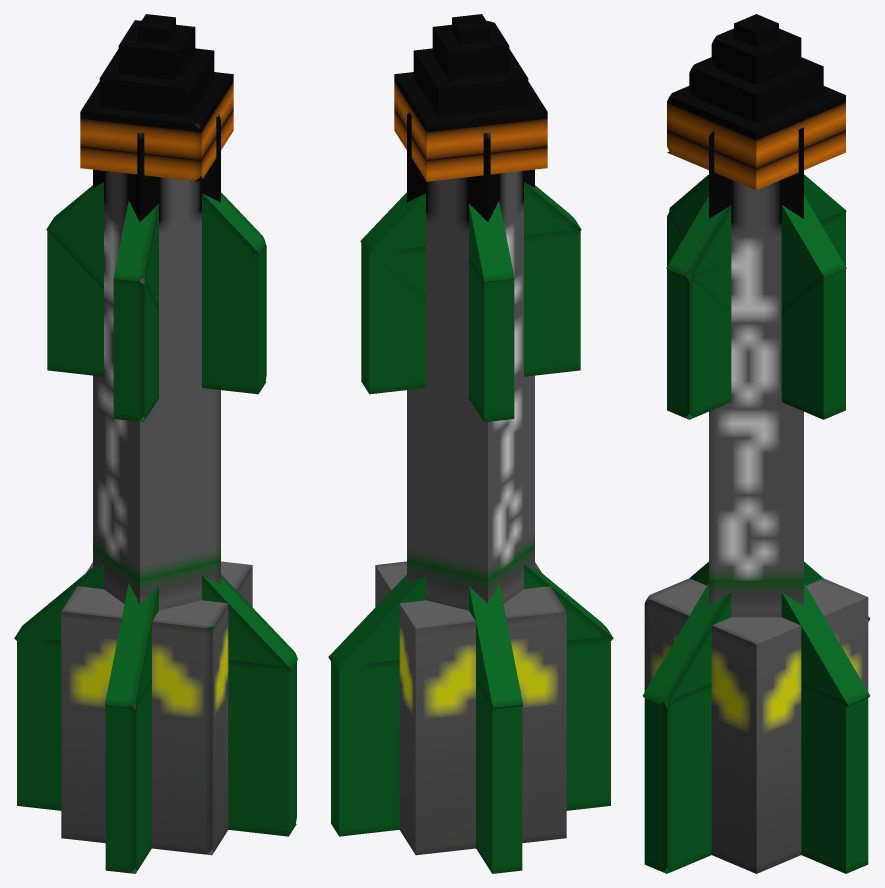
The model's file is missile_conventional.obj.
3 renders of one model, left to right at view 1: azimuth 30°, elevation 25°; view 2: azimuth 150°, elevation 25°; view 3: azimuth 270°, elevation 25°, orthographic.
Visible parts, largest first — view 1: MAIN_MISSILE_MODULE, PROPULSOR_MODULE, WING_B_B_1, WING_T_B_2, WARHEAD_1, WING_B_A_1, WING_T_B_1, WING_T_A_2, WING_B_B_2, WARHEAD_2, WING_B_A_2, WARHEAD_3 (+2 smaller); view 2: MAIN_MISSILE_MODULE, PROPULSOR_MODULE, WING_B_A_1, WING_T_A_2, WARHEAD_1, WING_B_B_1, WING_T_B_2, WING_T_A_1, WING_B_A_2, WARHEAD_2, WING_B_B_2, WARHEAD_3 (+2 smaller); view 3: MAIN_MISSILE_MODULE, PROPULSOR_MODULE, WARHEAD_1, WING_B_A_1, WING_B_B_1, WING_T_B_2, WING_T_A_2, WING_T_A_1, WARHEAD_2, WING_T_B_1, WING_B_B_2, WING_B_A_2 (+2 smaller).
Boxes of the visible parts, x1,y1,x2,y2 form: MAIN_MISSILE_MODULE: (93, 114, 220, 610); PROPULSOR_MODULE: (61, 561, 252, 855); WING_B_B_1: (17, 636, 296, 836); WING_T_B_2: (47, 231, 266, 394); WARHEAD_1: (80, 72, 233, 181); WING_B_A_1: (105, 679, 151, 873); WING_T_B_1: (46, 182, 265, 300); WING_T_A_2: (113, 276, 158, 422); WING_B_B_2: (14, 564, 297, 671); WARHEAD_2: (99, 48, 214, 116); WING_B_A_2: (105, 583, 158, 709); WARHEAD_3: (118, 20, 195, 80); MAIN_MISSILE_MODULE: (407, 112, 534, 610); PROPULSOR_MODULE: (375, 561, 566, 855); WING_B_A_1: (331, 636, 610, 836); WING_T_A_2: (361, 229, 580, 394); WARHEAD_1: (394, 72, 547, 181); WING_B_B_1: (476, 679, 522, 873); WING_T_B_2: (469, 257, 514, 422); WING_T_A_1: (360, 182, 581, 300); WING_B_A_2: (328, 564, 613, 671); WARHEAD_2: (413, 48, 528, 116); WING_B_B_2: (469, 583, 522, 709); WARHEAD_3: (432, 21, 509, 80); MAIN_MISSILE_MODULE: (709, 127, 803, 617); PROPULSOR_MODULE: (644, 578, 868, 873); WARHEAD_1: (667, 86, 845, 190); WING_B_A_1: (801, 683, 868, 873); WING_B_B_1: (644, 683, 711, 873); WING_T_B_2: (667, 210, 845, 419); WING_T_A_2: (667, 212, 845, 419); WING_T_A_1: (669, 174, 846, 313); WARHEAD_2: (689, 57, 823, 123); WING_T_B_1: (666, 174, 846, 313); WING_B_B_2: (642, 562, 870, 707); WING_B_A_2: (689, 562, 870, 707).
Size of the model in its own units: 0.9009 by 3.5 by 0.9009.
